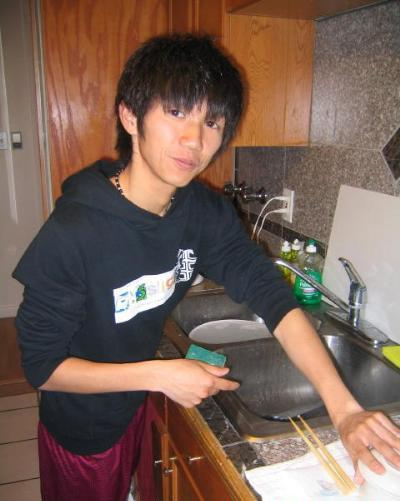person: (13, 36, 400, 501)
